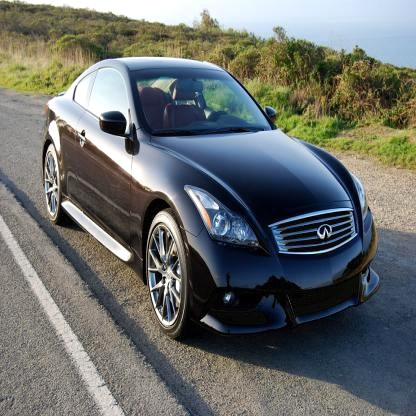Vehicle: (41, 56, 380, 344)
